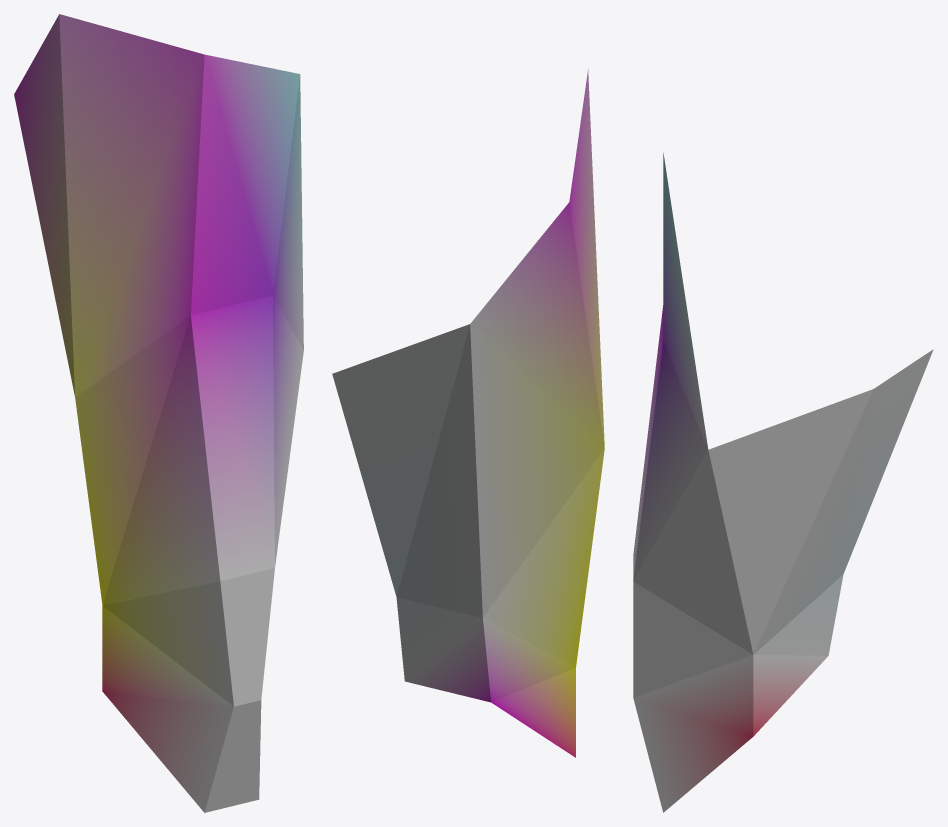
3 views of the same model, side by side, from view 1: azimuth 30°, elevation 25°; view 2: azimuth 150°, elevation 25°; view 3: azimuth 270°, elevation 25° (orthographic). The views are drawn at different scales.
Visible parts, largest first — view 1: model_11BA; view 2: model_11BA; view 3: model_11BA.
Part boxes in pixels (left/top/right/bottom): model_11BA: left=14, top=14, right=303, bottom=812; model_11BA: left=332, top=69, right=604, bottom=757; model_11BA: left=633, top=153, right=933, bottom=812.
Size of the model in its own units: 16 by 54 by 20.
